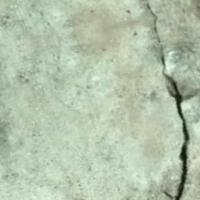crack: (122, 38, 199, 199)
